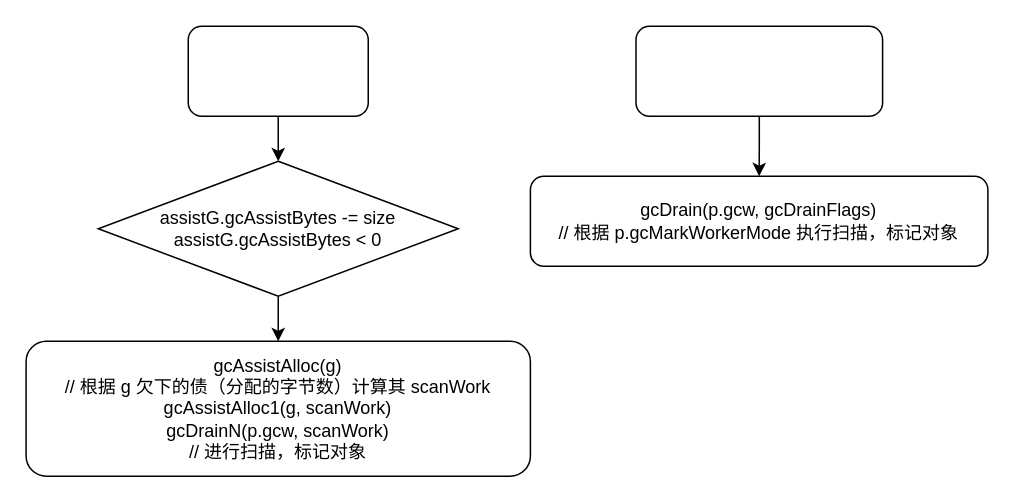
The diagram is 1016 pixels wide and 503 high, and some of its shapes have lost their labels. Here are the shapes that lost their labels. From the top down, the centre of each, then its label:
At point 277,70: "mallocgc(size) // 辅助标记".
At point 758,70: "gcBgMarkWorker() // 专门做标记的 g，确保只占用25%的CPU".
